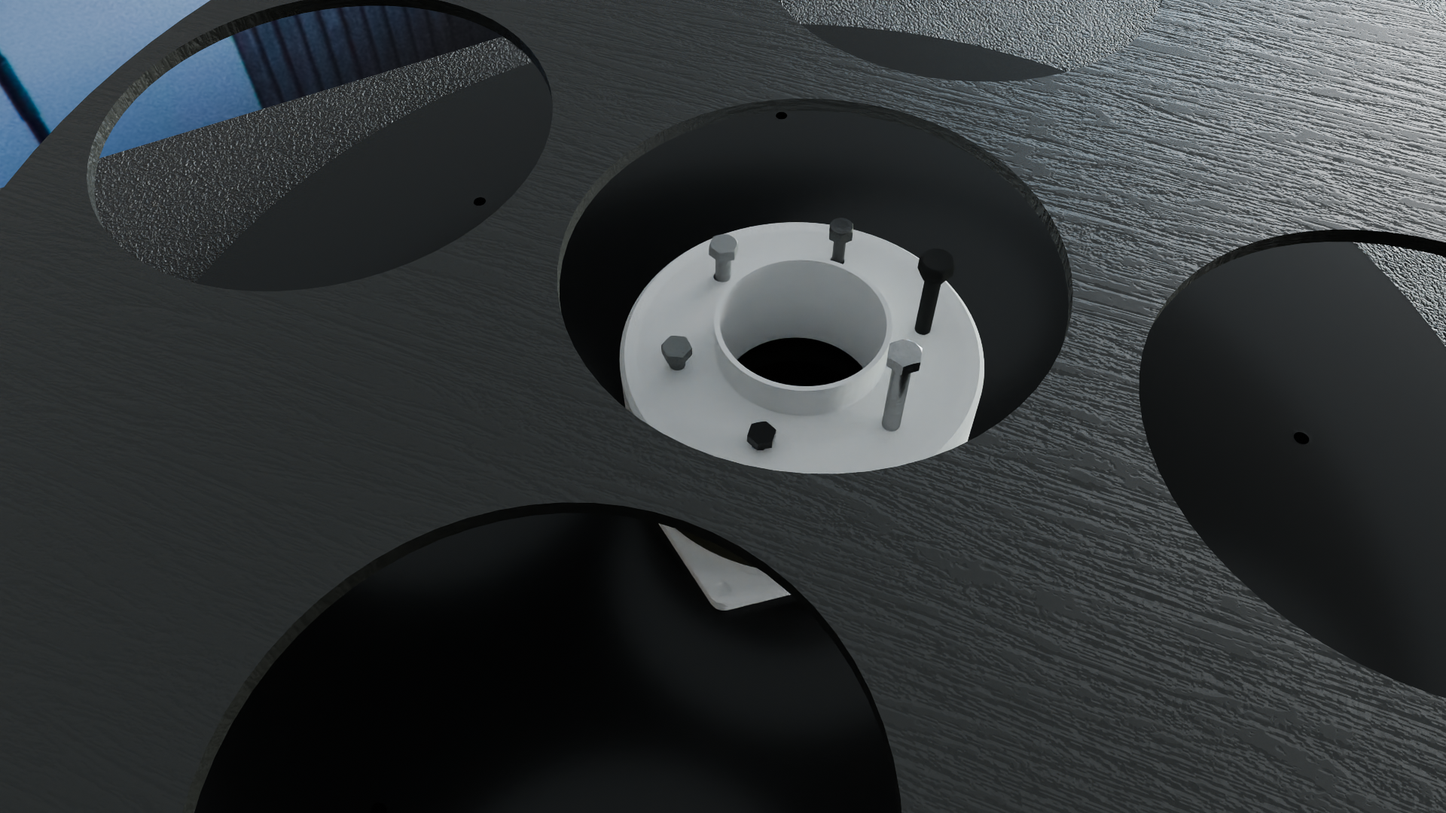bolt: (888, 339, 923, 367), (920, 248, 955, 275), (661, 336, 692, 358), (747, 422, 776, 445), (709, 234, 739, 255), (830, 218, 853, 237)
